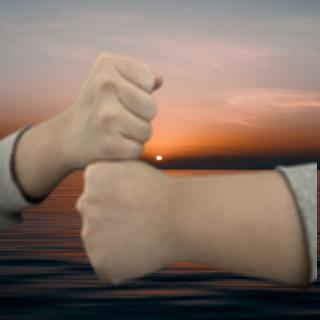CAREFUL: (17, 49, 316, 300)
